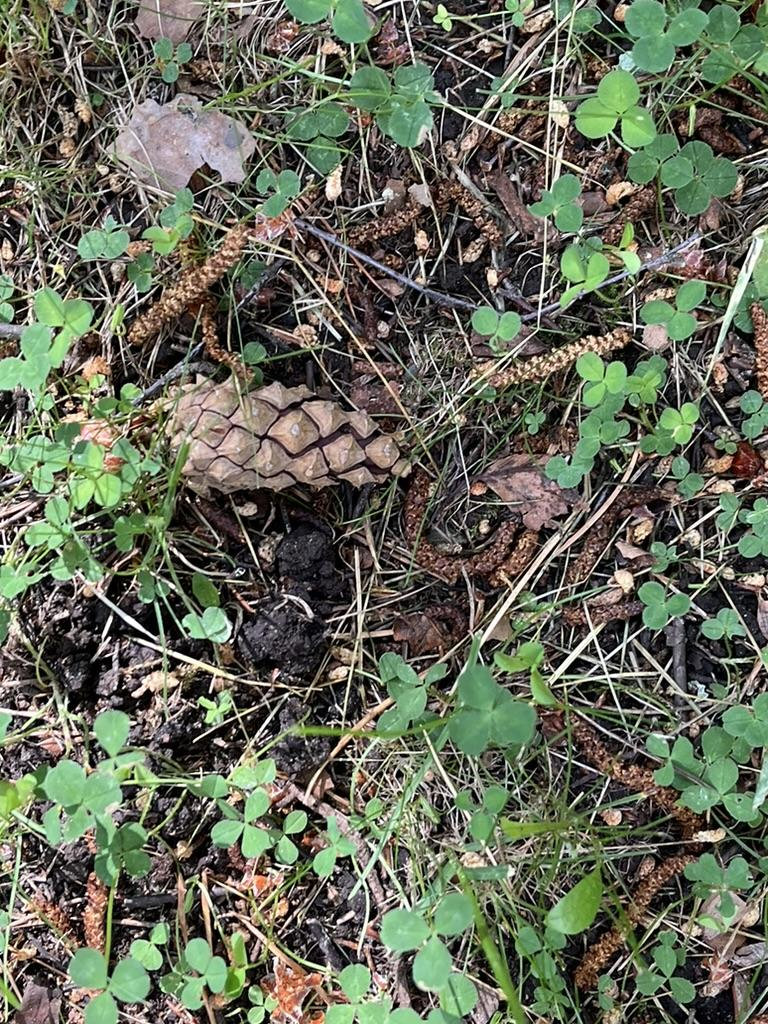pine: (141, 363, 441, 510)
